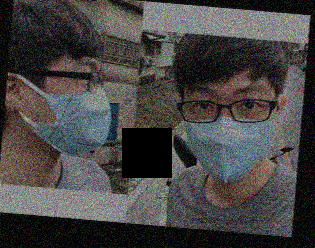with_mask: (180, 78, 276, 182), (33, 56, 115, 155)
